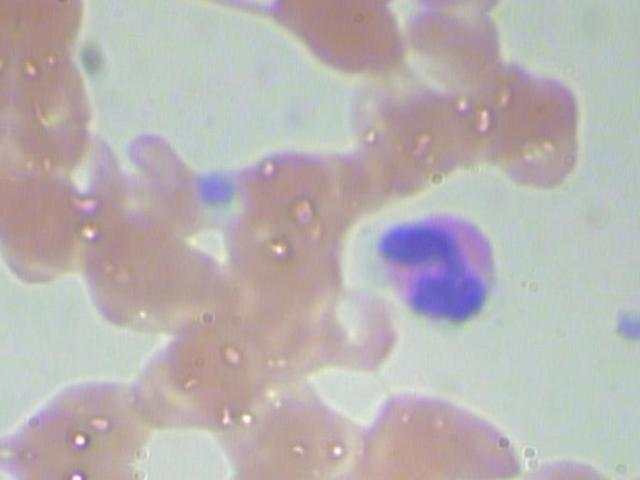Platelets: (392, 6, 508, 98), (12, 0, 98, 81)
RBC: (355, 195, 527, 335), (359, 381, 532, 480), (3, 54, 109, 188), (0, 160, 100, 293), (494, 56, 590, 193), (257, 0, 411, 83), (228, 141, 344, 234), (176, 304, 278, 408), (298, 280, 400, 383), (0, 46, 14, 180), (0, 0, 21, 74), (264, 0, 418, 5), (0, 152, 4, 285)
WBC: (400, 0, 515, 14)
